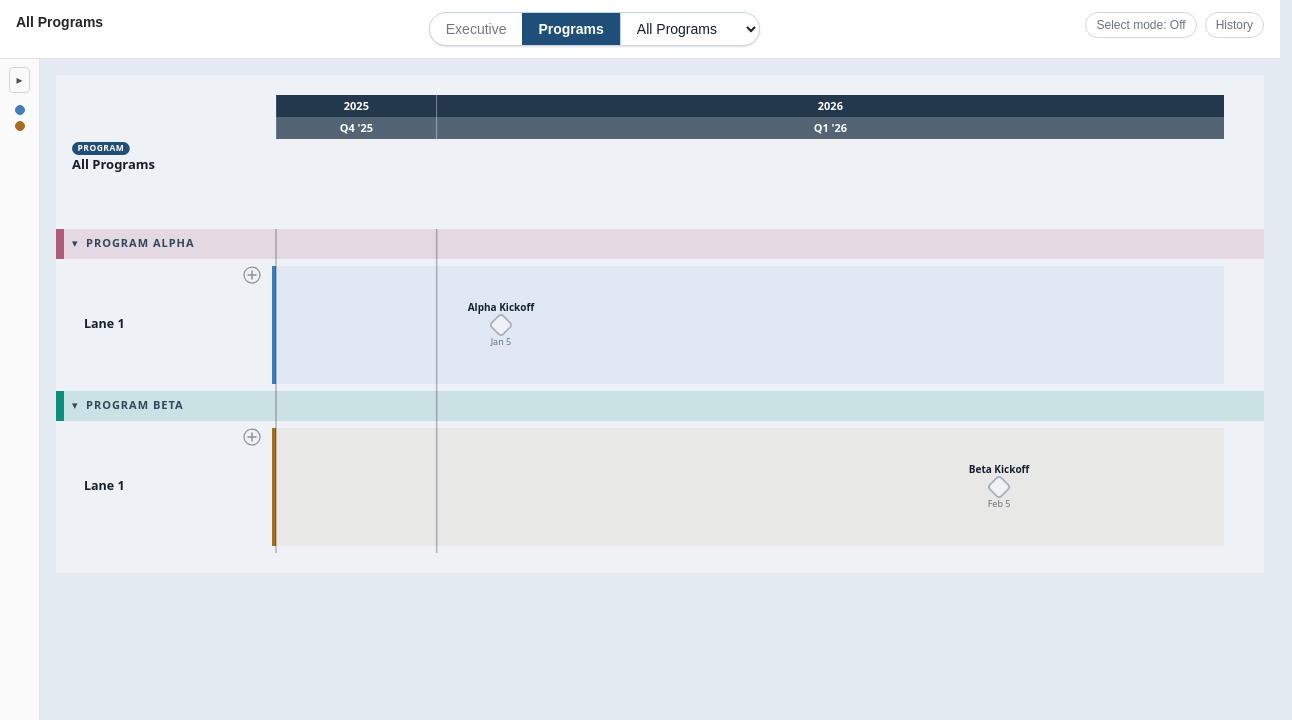
AllProgramsPage — the Program rail (wayframe#126, #125's Variant B) › lists every Program in the Roadmap, with the first card expanded as the structure editor
Click the button named "Open the Programs rail" at (20,80), box top-left (10, 67), bottom-right (30, 93)
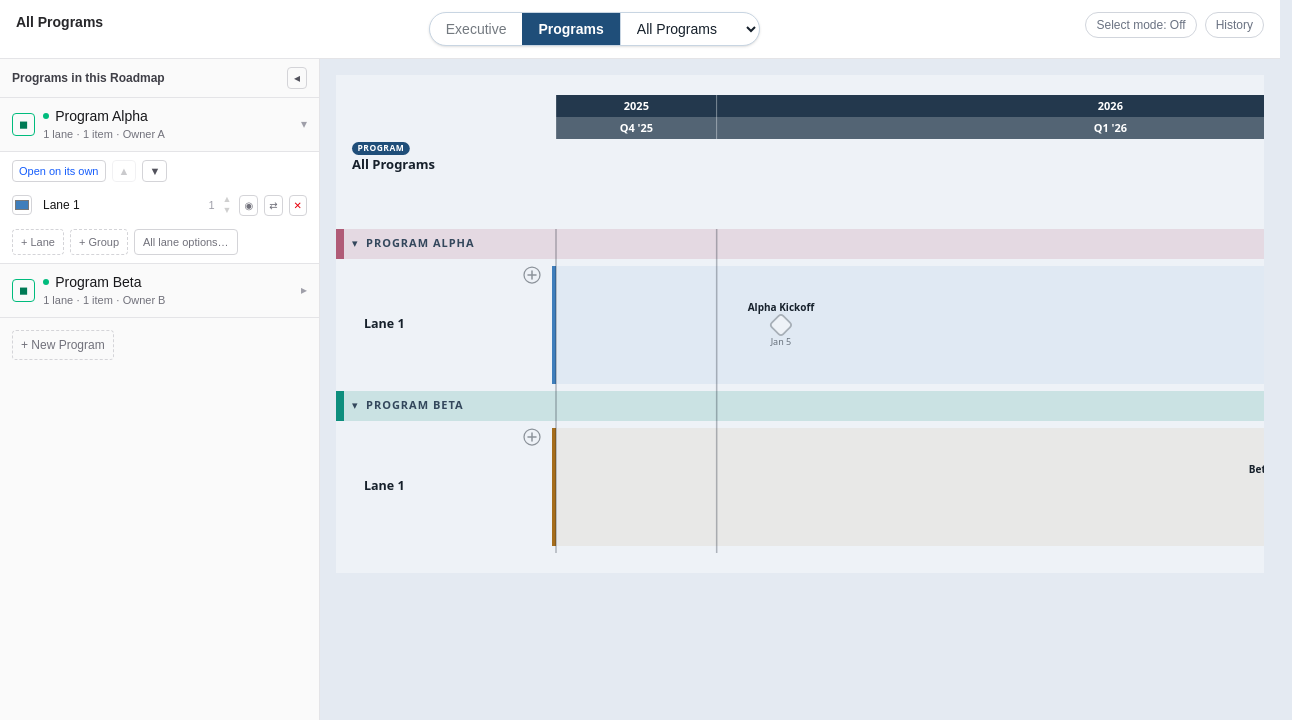
Result: the text "Program Alpha" is shown at top-left (55, 106), bottom-right (148, 126)
Result: the text "Program Beta" is shown at top-left (55, 272), bottom-right (142, 292)
Result: the number of links "Open on its own" is 1 at top-left (12, 160), bottom-right (106, 182)
